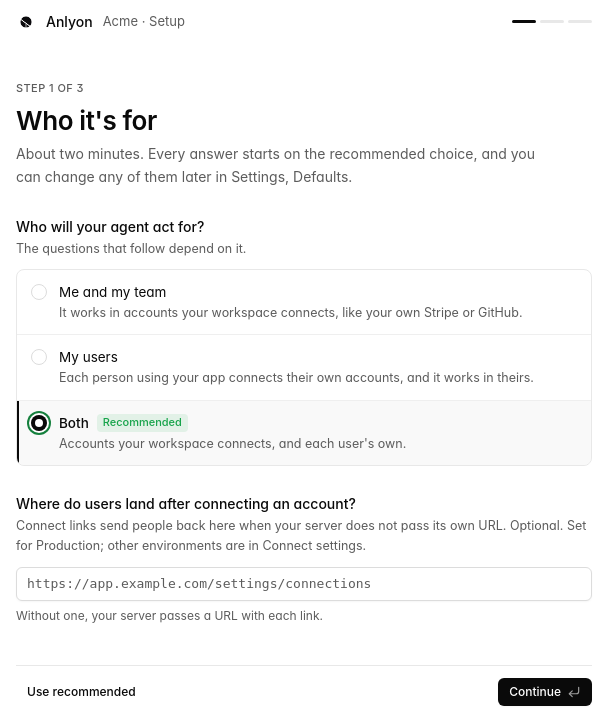
Test case: setup journey › holds on a redirect URL that is not valid
Type "not a url" into the field labelled "Where do users land after connecting an account?".
click(304, 584); type("not a url")  # box x1=17 y1=568 x2=591 y2=600
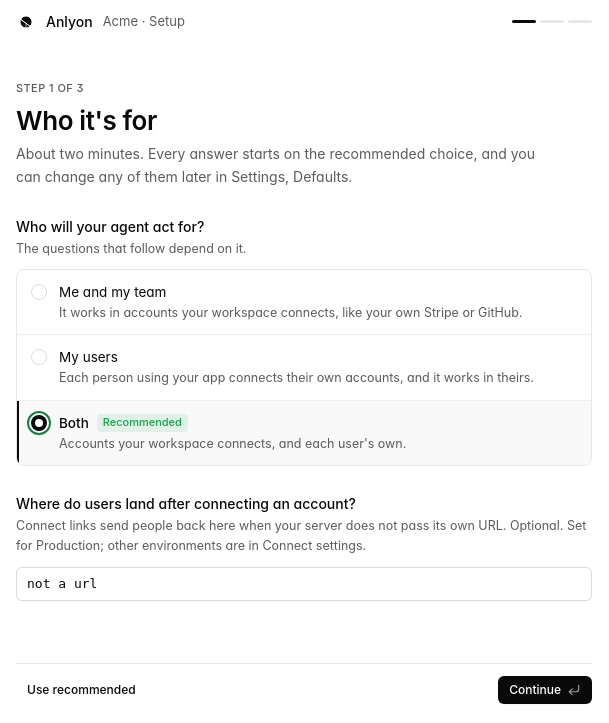
Click the button "Continue".
click(545, 690)  # box x1=498 y1=676 x2=592 y2=704
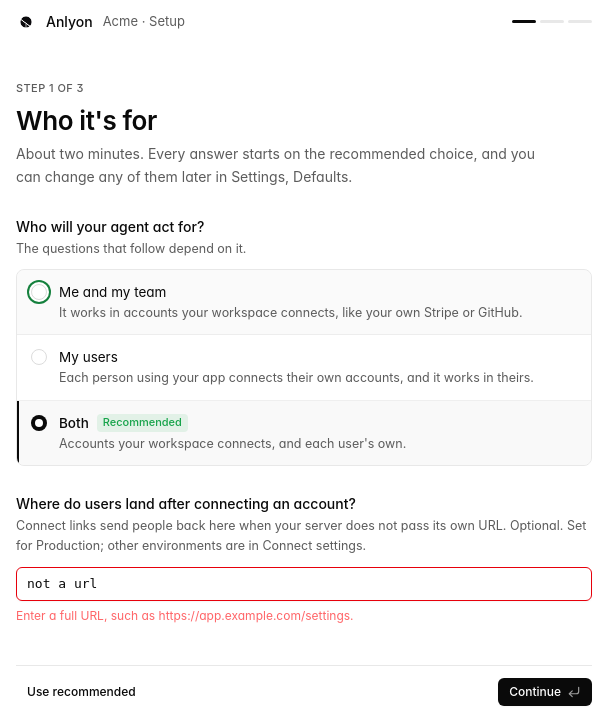
Expected: the heading "Who it's for" is shown, x1=16 y1=104 x2=157 y2=136
Expected: the message "Enter a full URL, such as https://app.example.com/settings." is shown, x1=16 y1=608 x2=354 y2=623
